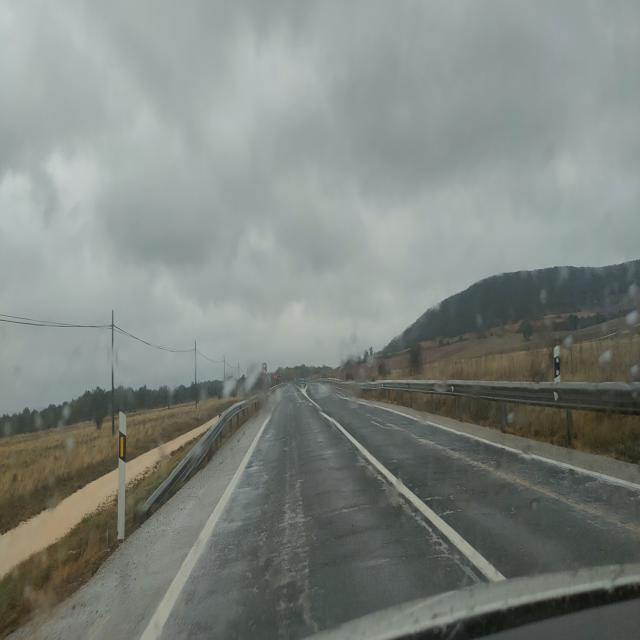Poth-hole: (280, 462, 310, 638)
